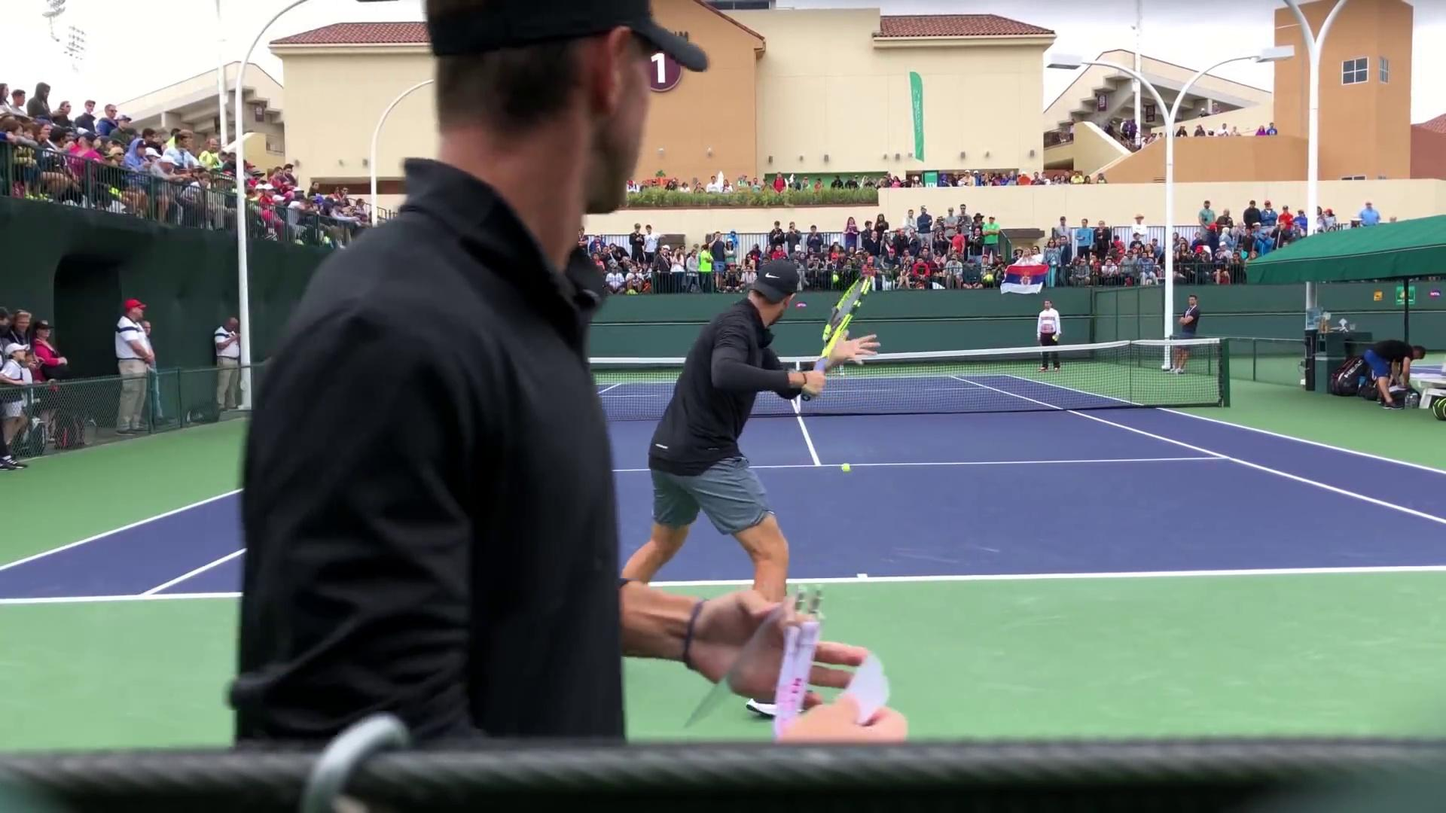ball: (839, 458, 853, 474)
